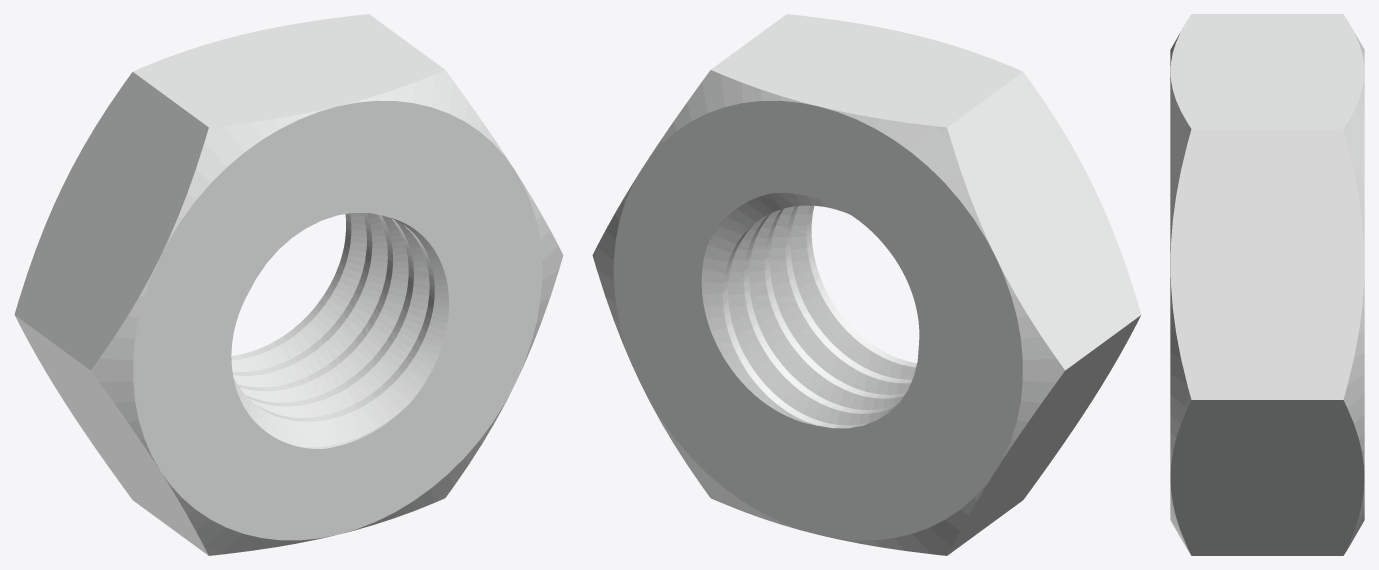
Rendered from asset.gltf.
The picture shows the model from 3 angles, left to right: view 1: azimuth 30°, elevation 25°; view 2: azimuth 150°, elevation 25°; view 3: azimuth 270°, elevation 25°; orthographic projection.
Parts seen in each view (by area): view 1: Practica11-parte2 (1); view 2: Practica11-parte2 (1); view 3: Practica11-parte2 (1).
Part boxes in pixels (left/top/right/bottom): Practica11-parte2 (1): left=14, top=14, right=563, bottom=555; Practica11-parte2 (1): left=592, top=14, right=1141, bottom=555; Practica11-parte2 (1): left=1170, top=14, right=1364, bottom=555.
Bounding box in the file's own units: 1963 × 1700 × 700.
1 material, 1 textured.
